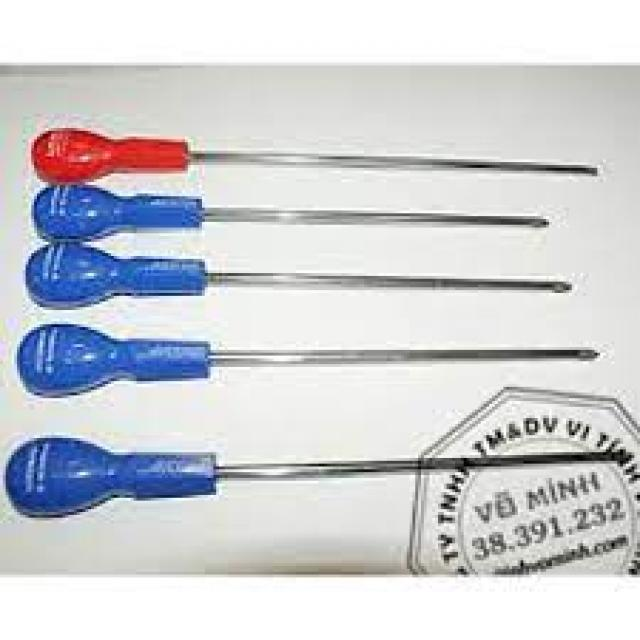screwdriver: (0, 428, 631, 519), (11, 321, 612, 401), (23, 240, 589, 314), (26, 174, 546, 243), (30, 125, 613, 185)
